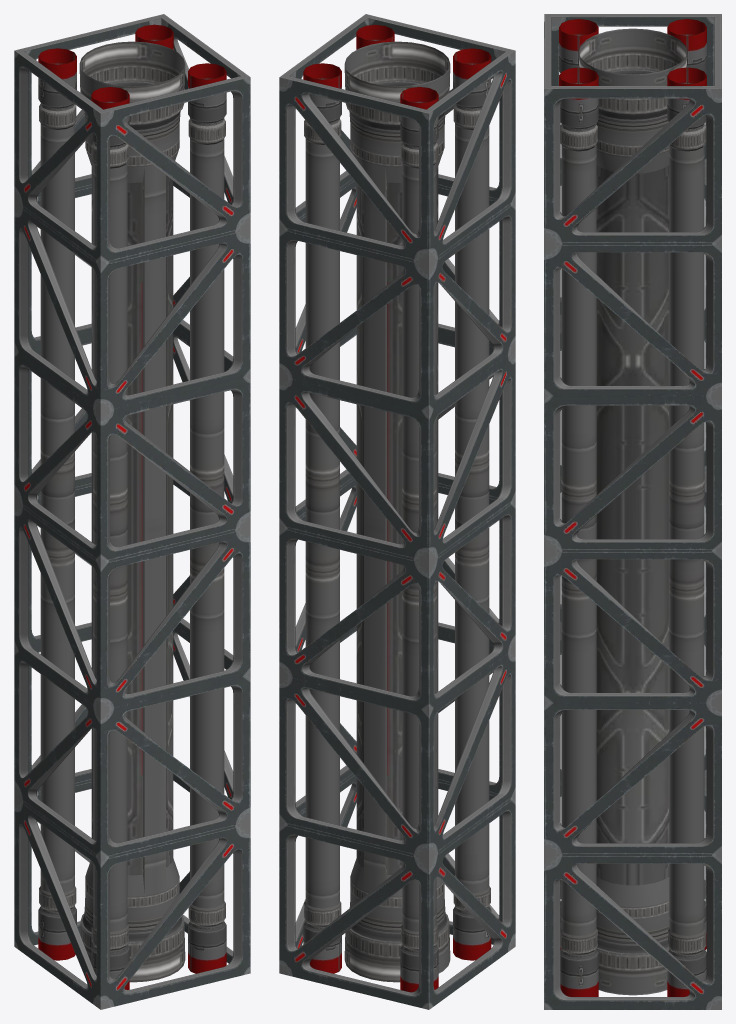
File: colonne-conduits.glb
The picture shows the model from 3 angles, left to right: view 1: azimuth 30°, elevation 25°; view 2: azimuth 150°, elevation 25°; view 3: azimuth 270°, elevation 25°; orthographic projection. The views are drawn at different scales.
Visible parts, largest first — view 1: Column_Pipes; view 2: Column_Pipes; view 3: Column_Pipes.
Part boxes in pixels (x1=…): Column_Pipes: x1=14, y1=14, x2=250, y2=1009; Column_Pipes: x1=279, y1=14, x2=515, y2=1009; Column_Pipes: x1=544, y1=14, x2=721, y2=1009.
Size of the model in its own units: 0.8747 by 5 by 0.8747.
Materials: 3 (3 with a texture image).
